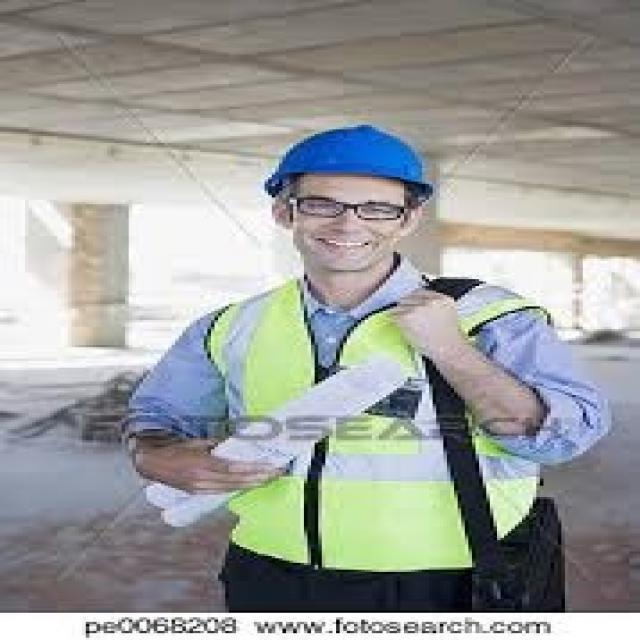helmet: (243, 114, 458, 214)
vest: (207, 266, 563, 586)
